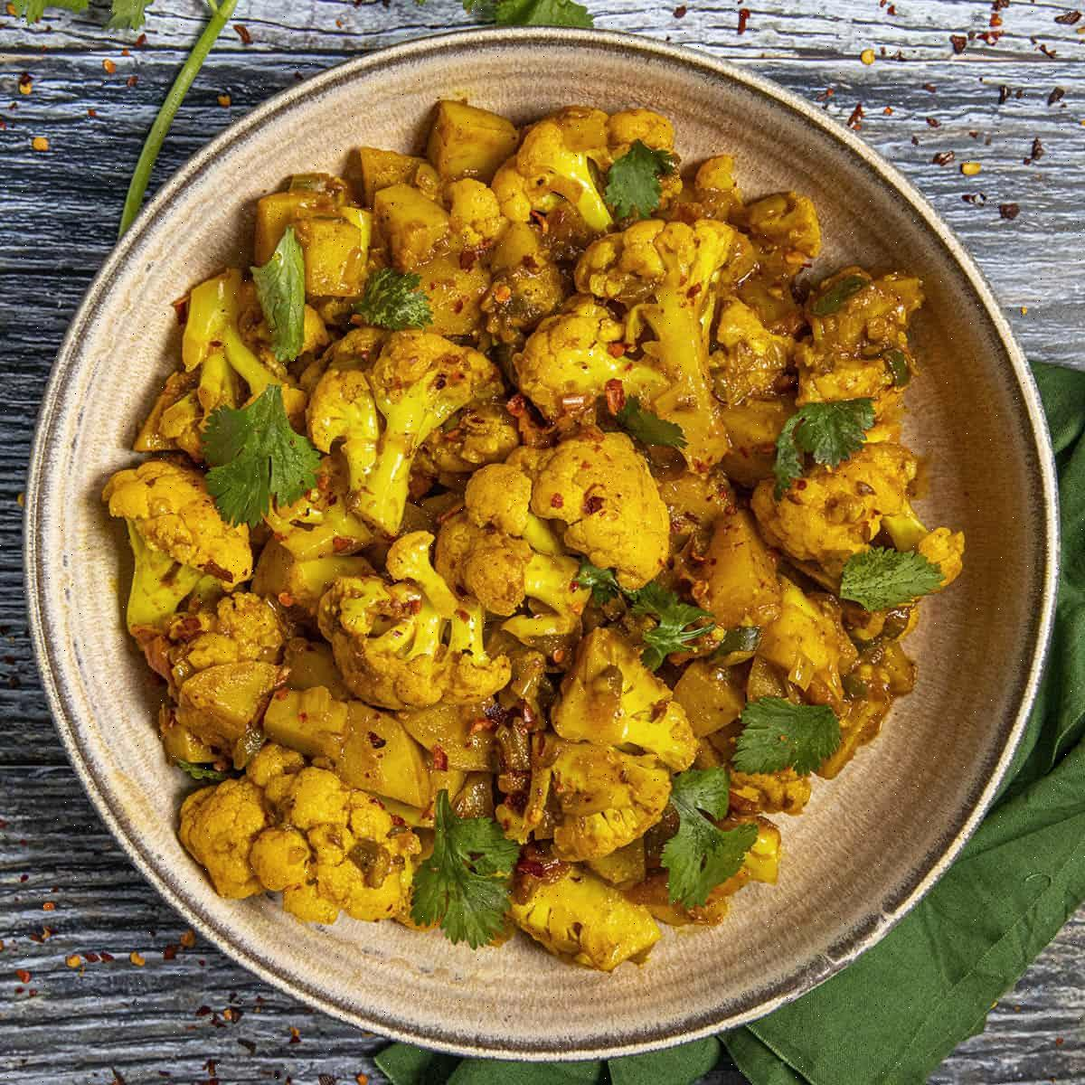aloo gobhi: (91, 55, 1029, 997)
